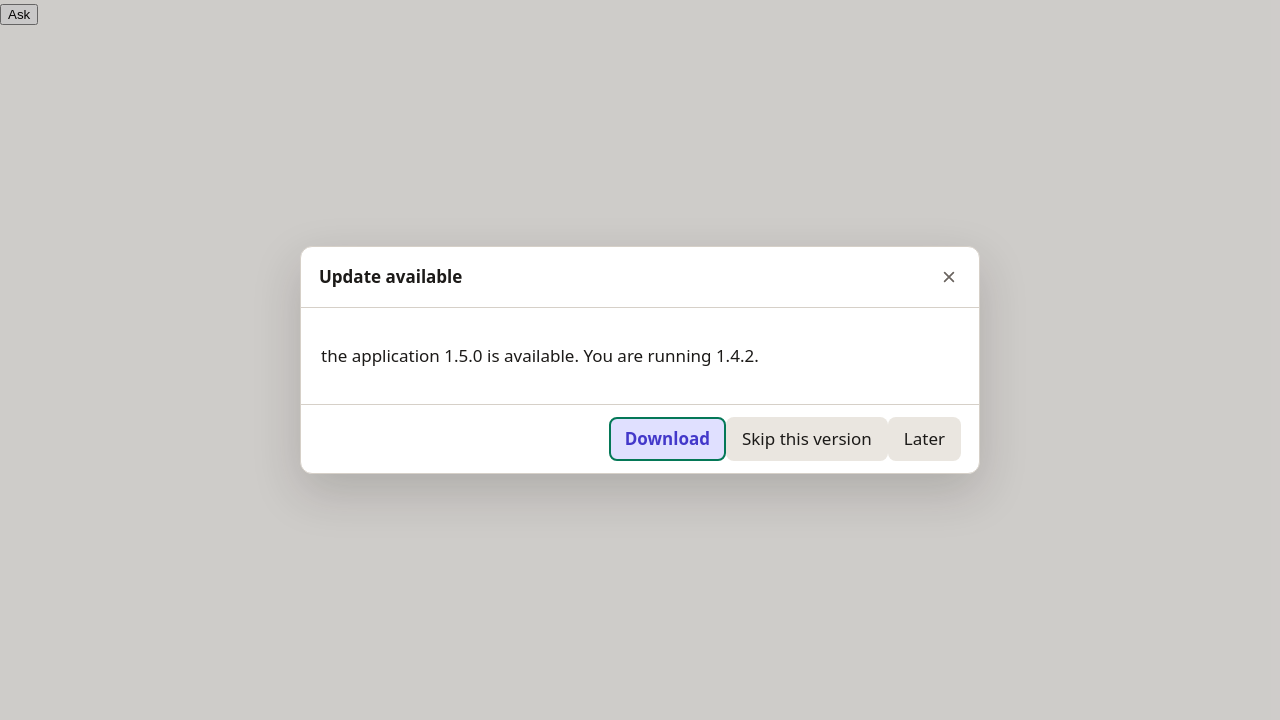
Test: the prompt › keeps the dialog open to say why a skip could not be kept
The image size is (1280, 720).
Click the button "Skip this version". click: (807, 439)
box: [726, 417, 888, 461]
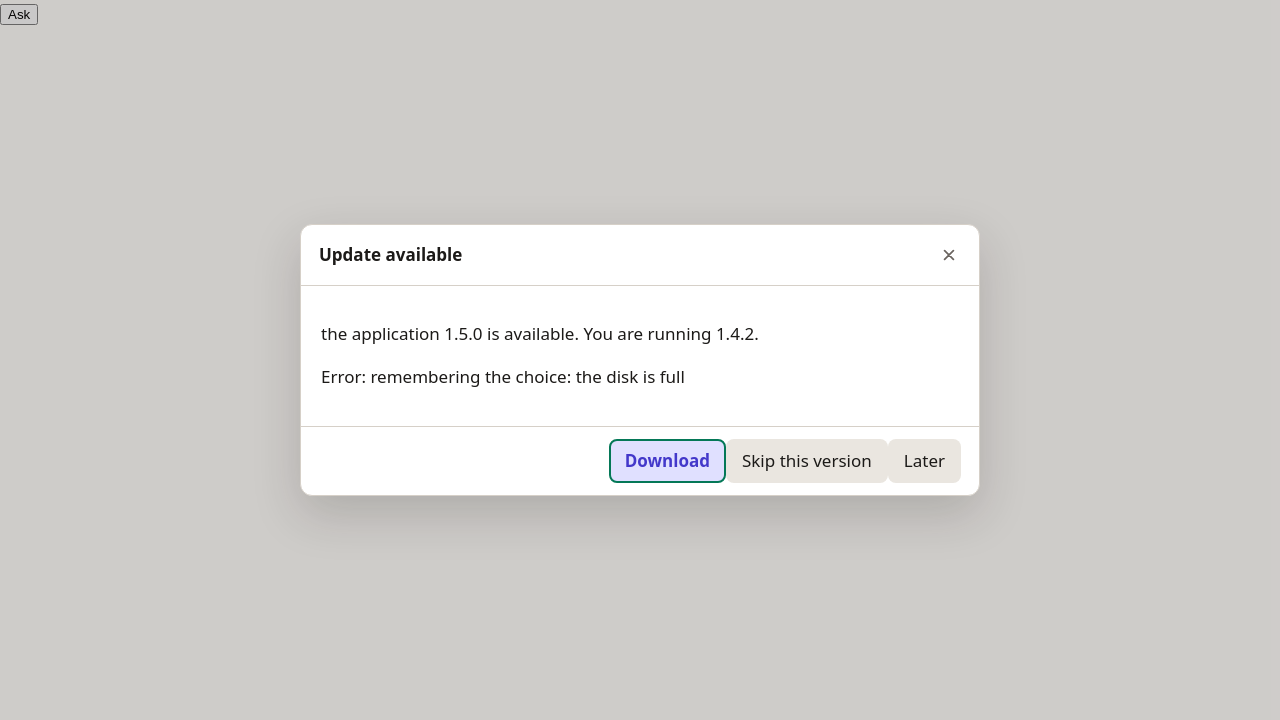
Now the message shows "the disk is full", box [321, 365, 685, 388]
